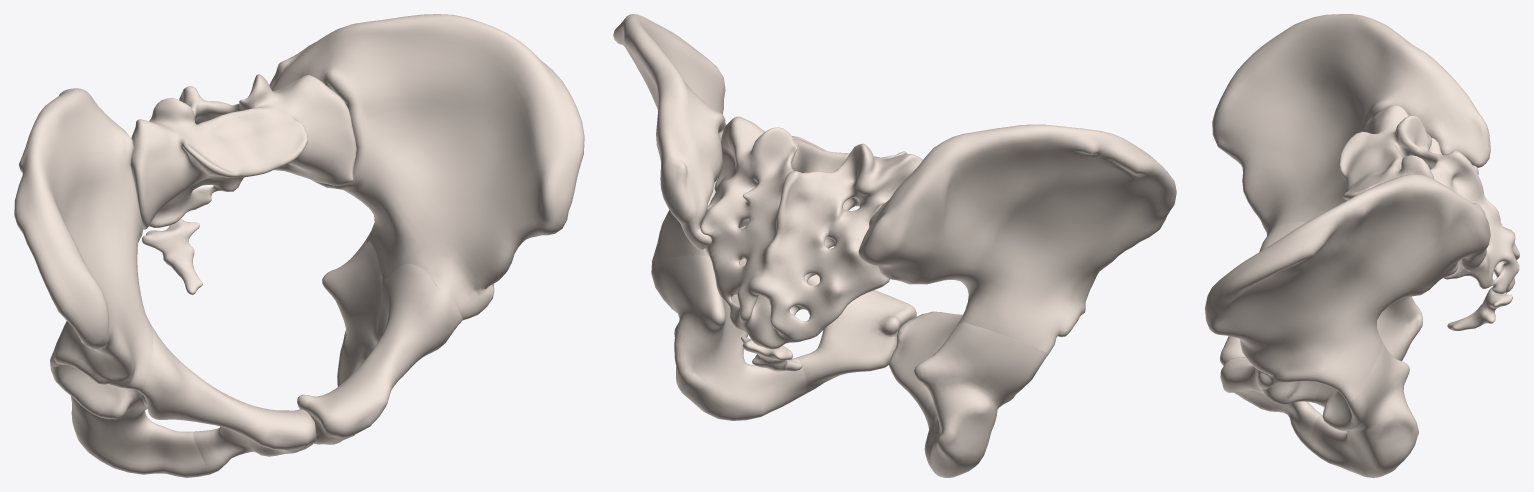
The model's file is VH_F_Pelvis.glb.
The picture shows the model from 3 angles, left to right: view 1: azimuth 30°, elevation 25°; view 2: azimuth 150°, elevation 25°; view 3: azimuth 270°, elevation 25°; orthographic projection. The views are drawn at different scales.
Visible parts, largest first — view 1: VH_F_ilium_compact_bone_L, VH_F_ilium_compact_bone_R, VH_F_sacrum, VH_F_pubis_compact_bone_L, VH_F_pubis_compact_bone_R, VH_F_ischium_compact_bone_R, VH_F_ischium_compact_bone_L, VH_F_coccyx; view 2: VH_F_ilium_compact_bone_R, VH_F_sacrum, VH_F_ilium_compact_bone_L, VH_F_ischium_compact_bone_L, VH_F_ischium_compact_bone_R, VH_F_pubis_compact_bone_L, VH_F_pubis_compact_bone_R, VH_F_coccyx; view 3: VH_F_ilium_compact_bone_L, VH_F_ilium_compact_bone_R, VH_F_sacrum, VH_F_ischium_compact_bone_L, VH_F_pubis_compact_bone_L, VH_F_ischium_compact_bone_R, VH_F_coccyx, VH_F_pubis_compact_bone_R.
Part boxes in pixels (box(x1,y1,x2,y2)): VH_F_ilium_compact_bone_L: box(269, 14, 584, 320); VH_F_ilium_compact_bone_R: box(14, 88, 153, 392); VH_F_sacrum: box(130, 74, 356, 229); VH_F_pubis_compact_bone_L: box(297, 263, 462, 444); VH_F_pubis_compact_bone_R: box(140, 325, 316, 474); VH_F_ischium_compact_bone_R: box(50, 362, 209, 477); VH_F_ischium_compact_bone_L: box(322, 238, 382, 436); VH_F_coccyx: box(142, 219, 202, 294); VH_F_ilium_compact_bone_R: box(858, 124, 1176, 354); VH_F_sacrum: box(700, 116, 922, 349); VH_F_ilium_compact_bone_L: box(613, 14, 745, 260); VH_F_ischium_compact_bone_L: box(651, 255, 806, 420); VH_F_ischium_compact_bone_R: box(914, 322, 1048, 477); VH_F_pubis_compact_bone_L: box(740, 258, 916, 393); VH_F_pubis_compact_bone_R: box(889, 311, 962, 420); VH_F_coccyx: box(741, 336, 802, 371); VH_F_ilium_compact_bone_L: box(1205, 174, 1490, 401); VH_F_ilium_compact_bone_R: box(1212, 14, 1490, 235); VH_F_sacrum: box(1339, 105, 1519, 294); VH_F_ischium_compact_bone_L: box(1307, 341, 1418, 477); VH_F_pubis_compact_bone_L: box(1220, 357, 1322, 447); VH_F_ischium_compact_bone_R: box(1377, 296, 1422, 361); VH_F_coccyx: box(1447, 287, 1512, 330); VH_F_pubis_compact_bone_R: box(1220, 222, 1305, 365).
Bounding box in the file's own units: 0.3168 × 0.2115 × 0.1827.
